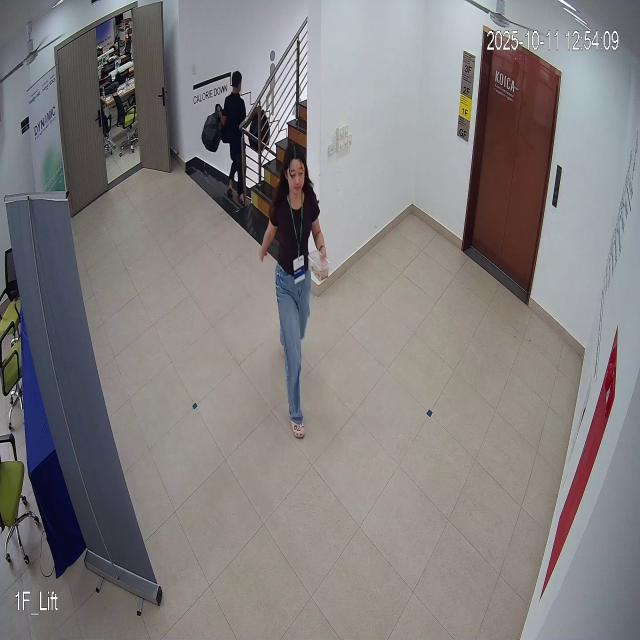face: (279, 138, 317, 203)
